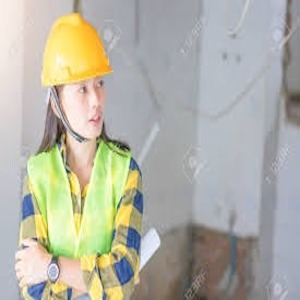safety: (44, 13, 112, 88)
vest: (29, 147, 133, 258)
